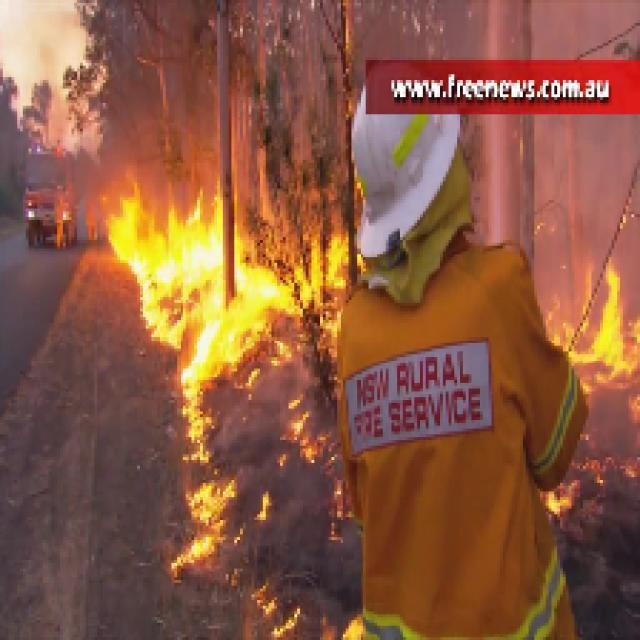Fire: (113, 198, 274, 377)
